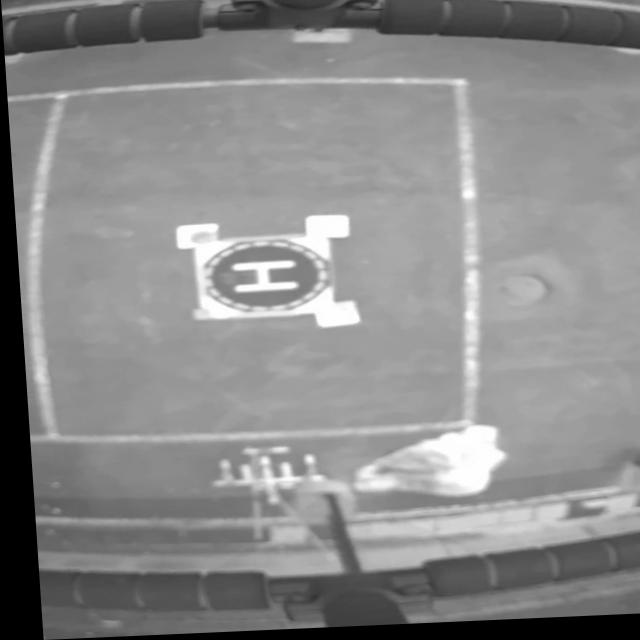Helipad: (226, 262, 291, 296)
